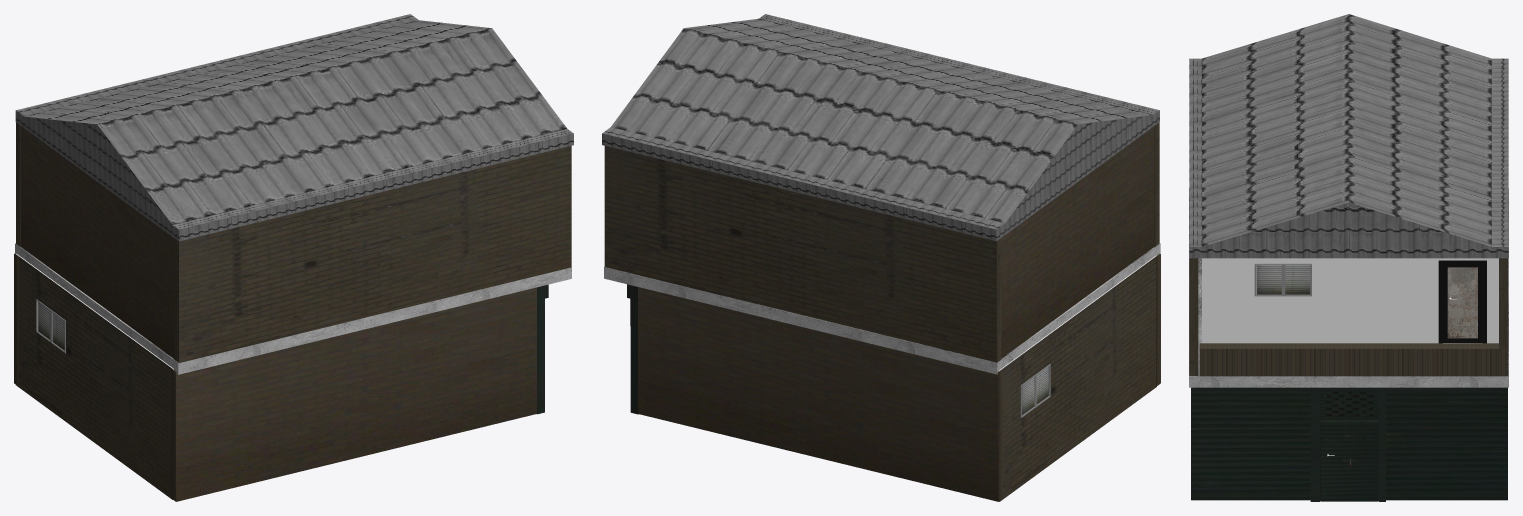
The model's file is 裝飾建築3.fbx.
3 renders of one model, left to right at view 1: azimuth 30°, elevation 25°; view 2: azimuth 150°, elevation 25°; view 3: azimuth 270°, elevation 25°, orthographic. The views are drawn at different scales.
Parts seen in each view (by area): view 1: 家裡屋頂L760W961, Box225, Box220, Box216, Box223, Box217, Box222, 窗戶鏡面, Box221, Box224; view 2: 家裡屋頂L760W961, Box224, Box221, Box216, Box223, Box217, Box222, 窗戶鏡面, Box225, Box220; view 3: 家裡屋頂L760W961, Box222, 陽台Wall049, Box212, Box217, PivotDoor014, 窗戶鏡面001, Box225, Box224.
Part boxes in pixels (x1,y1,x2,y2): 家裡屋頂L760W961: [15, 14, 573, 241]; Box225: [174, 146, 571, 362]; Box220: [171, 287, 536, 501]; Box216: [15, 253, 173, 499]; Box223: [21, 126, 174, 358]; Box217: [15, 243, 571, 374]; Box222: [537, 284, 548, 414]; 窗戶鏡面: [38, 302, 64, 350]; Box221: [14, 253, 18, 386]; Box224: [16, 122, 20, 246]; 家裡屋頂L760W961: [602, 14, 1159, 241]; Box224: [604, 146, 1001, 362]; Box221: [638, 287, 1003, 501]; Box216: [999, 255, 1156, 501]; Box223: [1001, 126, 1154, 358]; Box217: [604, 243, 1160, 374]; Box222: [627, 284, 638, 414]; 窗戶鏡面: [1022, 367, 1048, 415]; Box225: [1154, 122, 1159, 246]; Box220: [1156, 253, 1160, 386]; 家裡屋頂L760W961: [1189, 14, 1508, 258]; Box222: [1191, 387, 1507, 501]; 陽台Wall049: [1202, 258, 1498, 343]; Box212: [1199, 343, 1505, 376]; Box217: [1189, 189, 1508, 387]; PivotDoor014: [1438, 260, 1486, 343]; 窗戶鏡面001: [1257, 265, 1310, 294]; Box225: [1189, 258, 1198, 375]; Box224: [1499, 258, 1507, 375].
Bounding box in the file's own units: 1014 × 778 × 723.
17 materials, 10 textured.
